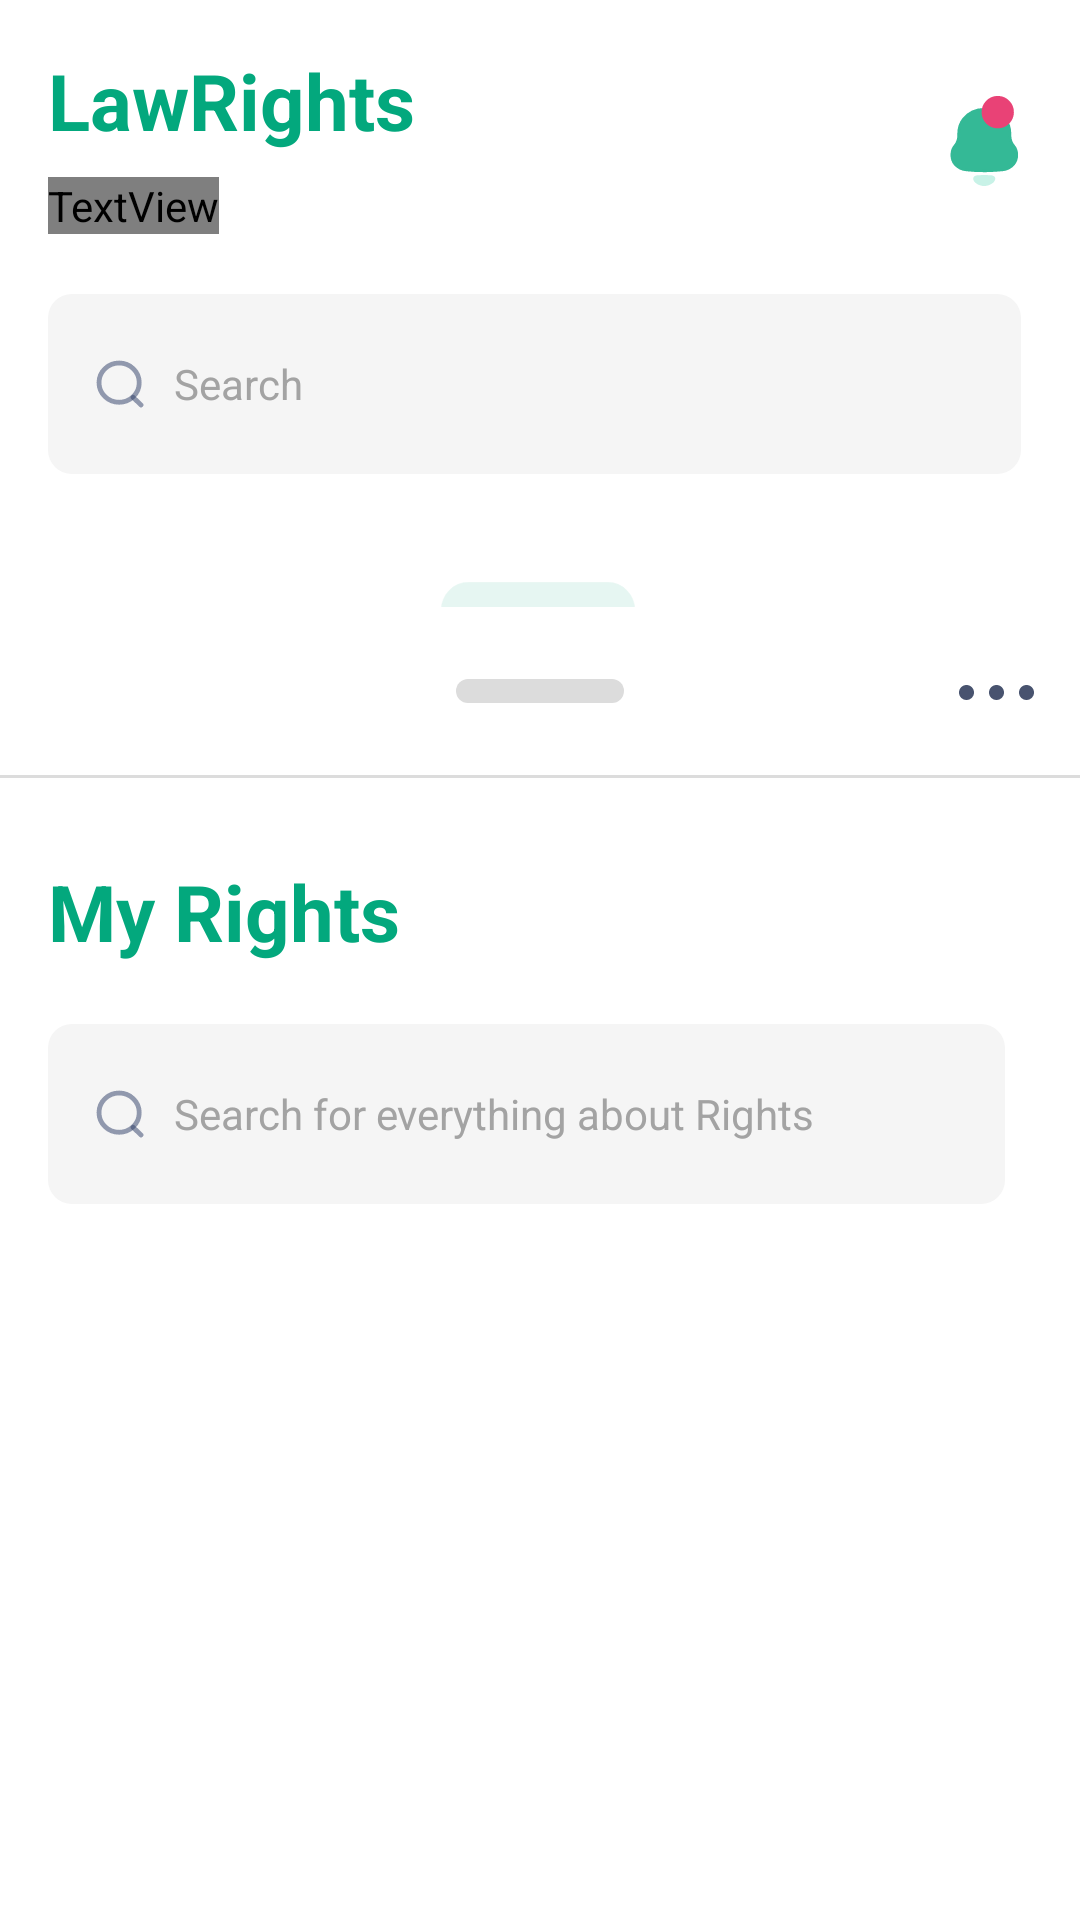

Named icons in this screenshot (1080 × 1920) and their bounding boxes, (x1, y1, x2, y2):
notification: (950, 96, 1018, 186)
overflow: (959, 685, 1034, 700)
